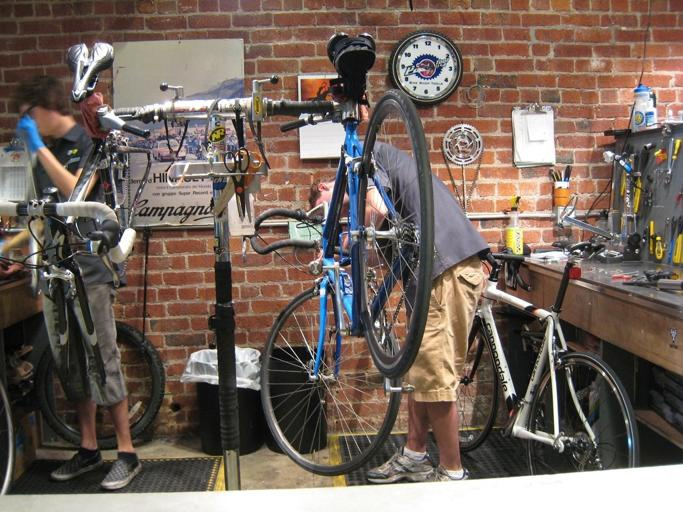non-vehicle: (249, 30, 433, 474), (0, 39, 152, 401), (452, 237, 641, 475)
